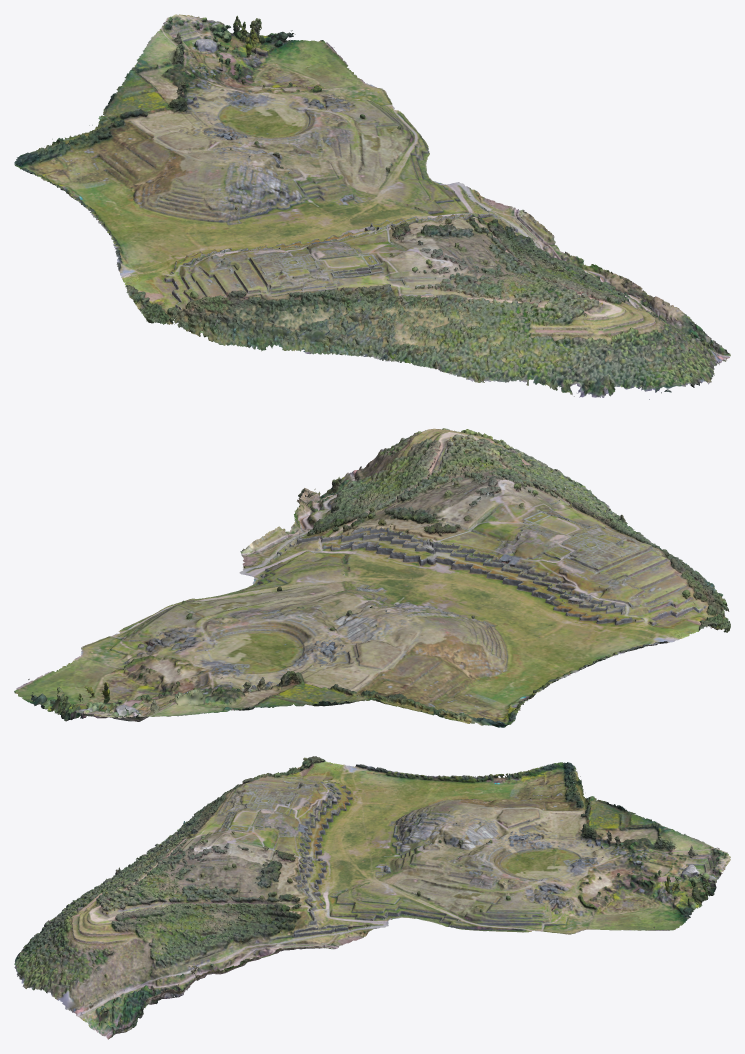
Rendered from sacsayhuaman-low.glb.
3 views of the same model, one above another, from view 1: azimuth 30°, elevation 25°; view 2: azimuth 150°, elevation 25°; view 3: azimuth 270°, elevation 25° (orthographic). The views are drawn at different scales.
Parts seen in each view (by area): view 1: Object_4, Object_5, Object_2, Object_6, Object_3, Object_7; view 2: Object_4, Object_5, Object_6, Object_7, Object_3, Object_2; view 3: Object_4, Object_5, Object_6, Object_2, Object_3, Object_7.
Part boxes in pixels (x1,y1,x2,y2): Object_4: (14,99,710,343); Object_5: (15,14,693,393); Object_2: (351,295,726,399); Object_6: (118,219,653,321); Object_3: (213,266,730,361); Object_7: (147,248,701,337); Object_4: (122,460,721,727); Object_5: (14,477,713,727); Object_6: (291,470,728,643); Object_7: (299,466,730,631); Object_3: (298,439,725,600); Object_2: (320,428,656,545); Object_4: (128,762,601,1027); Object_5: (103,762,730,1021); Object_6: (161,756,357,995); Object_2: (14,837,177,1036); Object_3: (84,790,229,1039); Object_7: (135,772,283,1020).
Bounding box in the file's own units: 595 × 149 × 890.
Materials: 1 (1 with a texture image).
